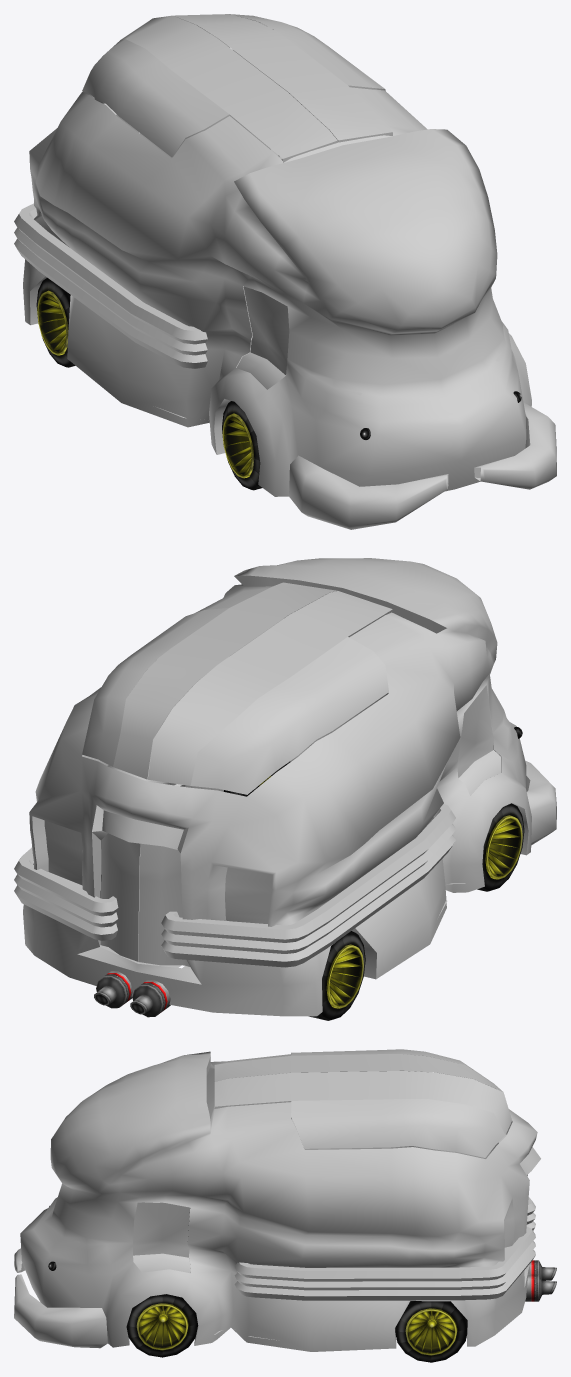
The model's file is caroutside.FBX.
3 views of the same model, one above another, from view 1: azimuth 30°, elevation 25°; view 2: azimuth 150°, elevation 25°; view 3: azimuth 270°, elevation 25° (orthographic). The views are drawn at different scales.
Visible parts, largest first — view 1: body, door_r, wheel002, wheel003; view 2: body, door_r, wheel003, wheel002, Cylinder099, Cylinder098; view 3: body, door_l, wheel001, wheel, Cylinder098.
Part boxes in pixels (x1=…): body: x1=14, y1=14, x2=556, y2=529; door_r: x1=236, y1=286, x2=289, y2=389; wheel002: x1=222, y1=401, x2=262, y2=490; wheel003: x1=36, y1=277, x2=75, y2=367; body: x1=14, y1=558, x2=556, y2=1016; door_r: x1=457, y1=686, x2=500, y2=795; wheel003: x1=309, y1=931, x2=365, y2=1020; wheel002: x1=477, y1=803, x2=524, y2=891; Cylinder099: x1=130, y1=980, x2=170, y2=1017; Cylinder098: x1=94, y1=971, x2=132, y2=1008; body: x1=14, y1=1049, x2=540, y2=1351; door_l: x1=132, y1=1202, x2=190, y2=1272; wheel001: x1=395, y1=1301, x2=467, y2=1362; wheel: x1=126, y1=1294, x2=198, y2=1357; Cylinder098: x1=525, y1=1274, x2=556, y2=1301.
Size of the model in its own units: 135 by 127 by 262.
